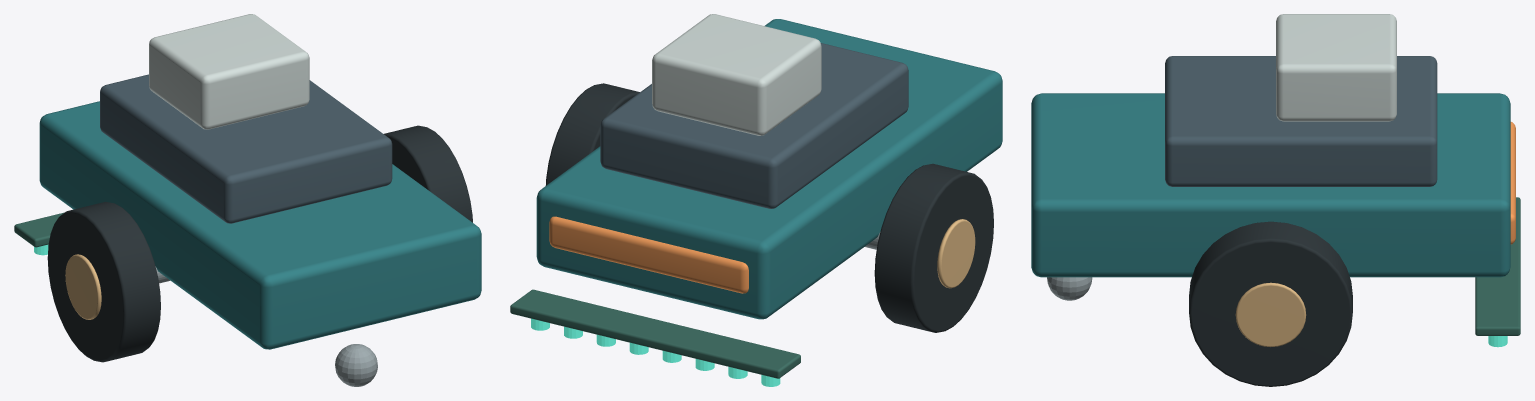
The model's file is nncar_vehicle.glb.
3 renders of one model, left to right at view 1: azimuth 30°, elevation 25°; view 2: azimuth 150°, elevation 25°; view 3: azimuth 270°, elevation 25°, orthographic. The views are drawn at different scales.
Visible parts, largest first — view 1: Chassis, TopDeck, BatteryPack, DriveWheel_L, DriveWheel_R, WheelHub_L, RearCaster, GraySensorBoard; view 2: Chassis, TopDeck, BatteryPack, DriveWheel_L, GraySensorBoard, FrontBumper, DriveWheel_R, WheelHub_L; view 3: Chassis, TopDeck, DriveWheel_R, BatteryPack, WheelHub_R, GraySensorBoard, RearCaster, FrontBumper.
Boxes of the visible parts, bbox=[...] form: Chassis: bbox=[39, 101, 481, 349]; TopDeck: bbox=[100, 74, 392, 223]; BatteryPack: bbox=[149, 14, 309, 129]; DriveWheel_L: bbox=[47, 201, 160, 362]; DriveWheel_R: bbox=[384, 125, 472, 222]; WheelHub_L: bbox=[65, 254, 101, 319]; RearCaster: bbox=[335, 344, 377, 386]; GraySensorBoard: bbox=[14, 212, 64, 247]; Chassis: bbox=[536, 19, 1002, 319]; TopDeck: bbox=[600, 43, 908, 208]; BatteryPack: bbox=[652, 14, 821, 135]; DriveWheel_L: bbox=[874, 163, 993, 332]; GraySensorBoard: bbox=[510, 289, 800, 378]; FrontBumper: bbox=[549, 216, 748, 293]; DriveWheel_R: bbox=[545, 83, 639, 185]; WheelHub_L: bbox=[937, 219, 975, 288]; Chassis: bbox=[1031, 93, 1510, 277]; TopDeck: bbox=[1165, 56, 1437, 186]; DriveWheel_R: bbox=[1189, 221, 1352, 386]; BatteryPack: bbox=[1276, 14, 1396, 121]; WheelHub_R: bbox=[1235, 282, 1306, 346]; GraySensorBoard: bbox=[1475, 197, 1520, 335]; RearCaster: bbox=[1047, 277, 1092, 300]; FrontBumper: bbox=[1510, 122, 1515, 244].
Size of the model in its own units: 0.172 by 0.1135 by 0.194.
